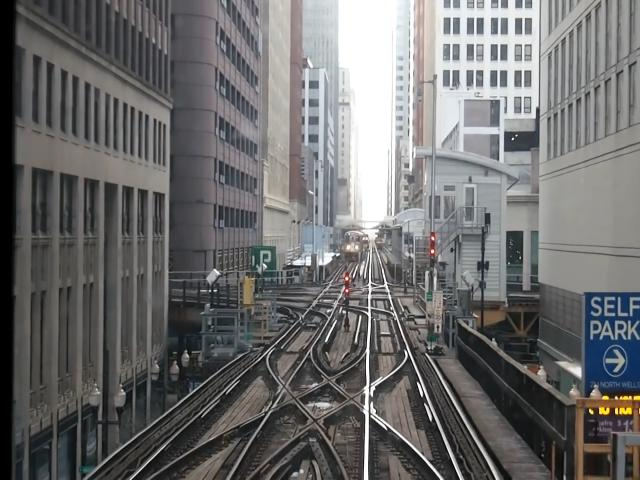signal light: (430, 233, 438, 272), (346, 272, 352, 306)
